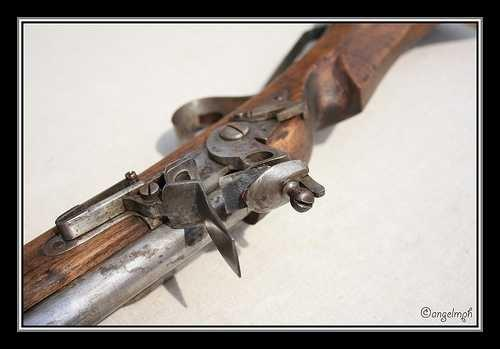heavyweapon: (20, 18, 443, 328)
